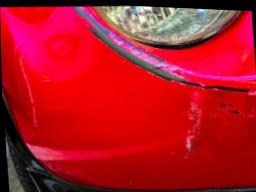Bumper: (0, 6, 256, 192)
